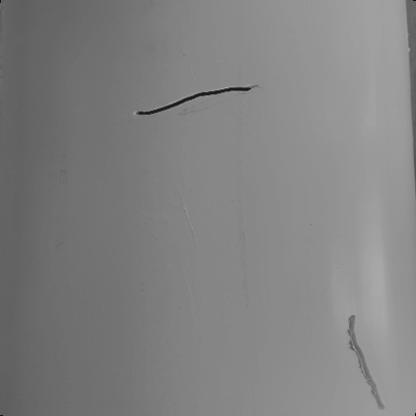fengxi: (134, 83, 259, 117)
sunshang: (345, 313, 391, 412)
